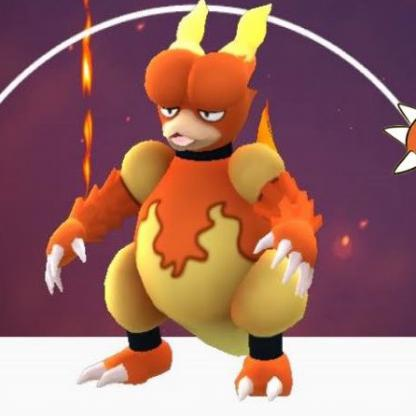Magmar: (41, 1, 330, 403)
